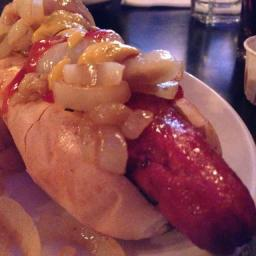hotdog: (123, 97, 248, 256)
